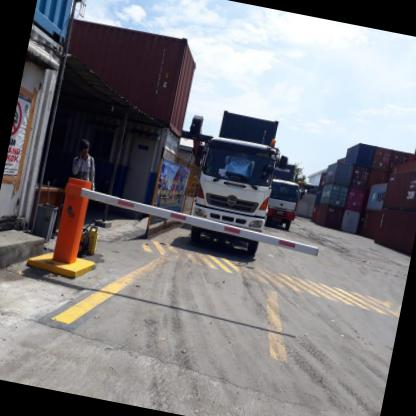truck: (184, 132, 284, 258)
